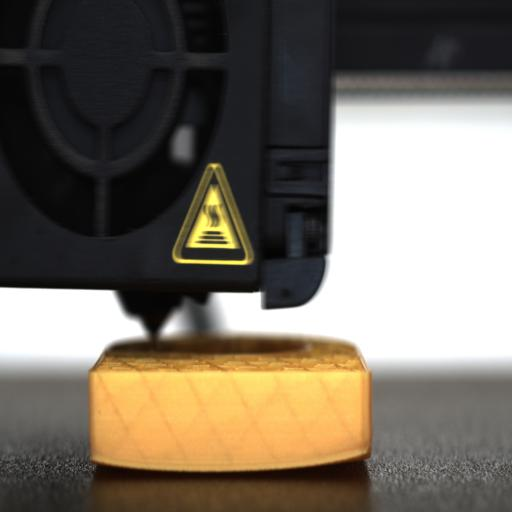warp: (84, 444, 144, 476), (292, 443, 372, 466)
